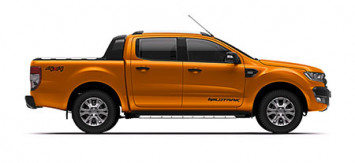pickup: (24, 31, 334, 136)
